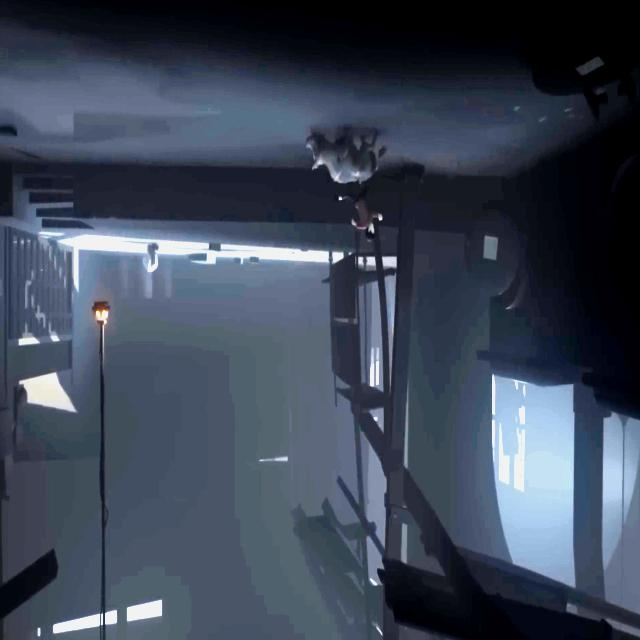boy: (336, 183, 383, 241)
interactible: (92, 300, 110, 321)
zombie: (144, 242, 160, 272)
